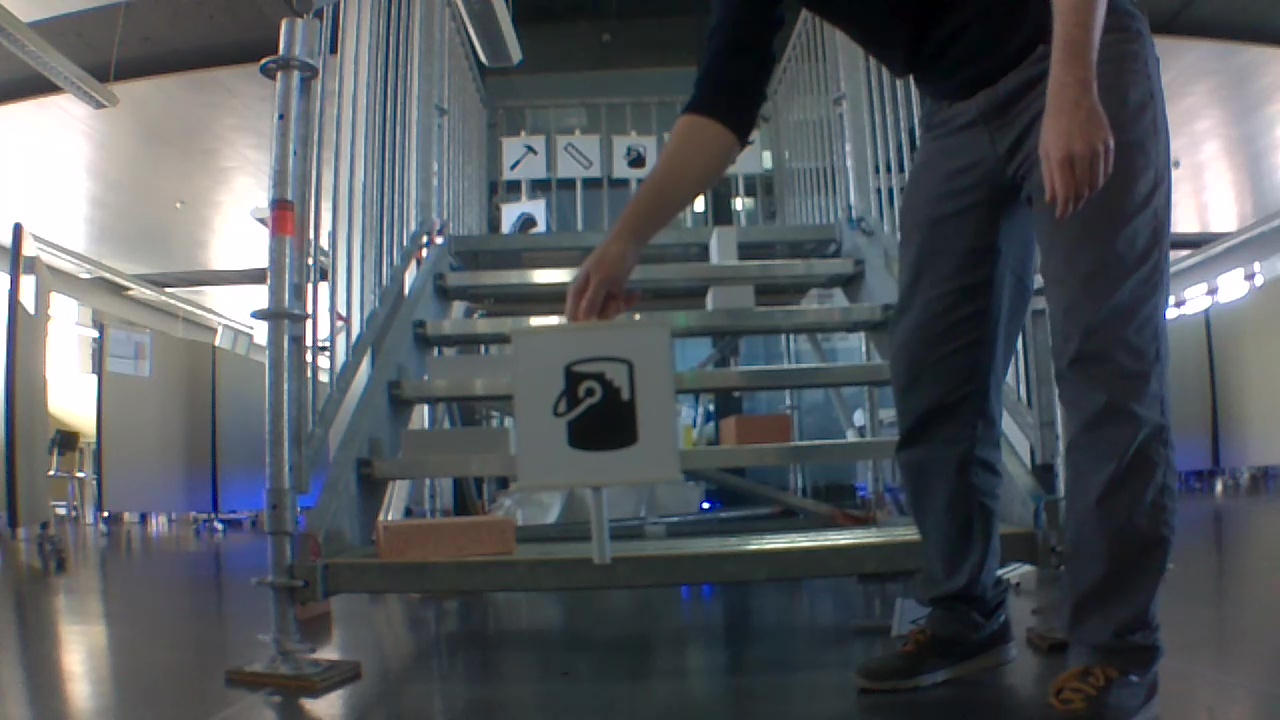brick: (375, 513, 511, 558), (403, 429, 512, 459), (716, 414, 793, 445), (429, 353, 512, 378), (704, 283, 754, 306), (708, 226, 737, 261)
bucket: (542, 352, 641, 457), (617, 142, 649, 170)
hammer: (504, 141, 542, 172)
ruler: (560, 139, 596, 176)
taco: (503, 206, 541, 235)
